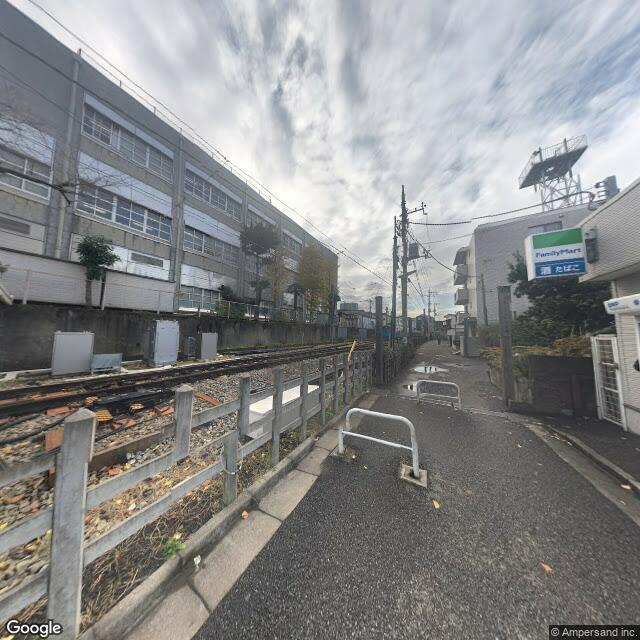family_mart: (531, 226, 585, 278)
